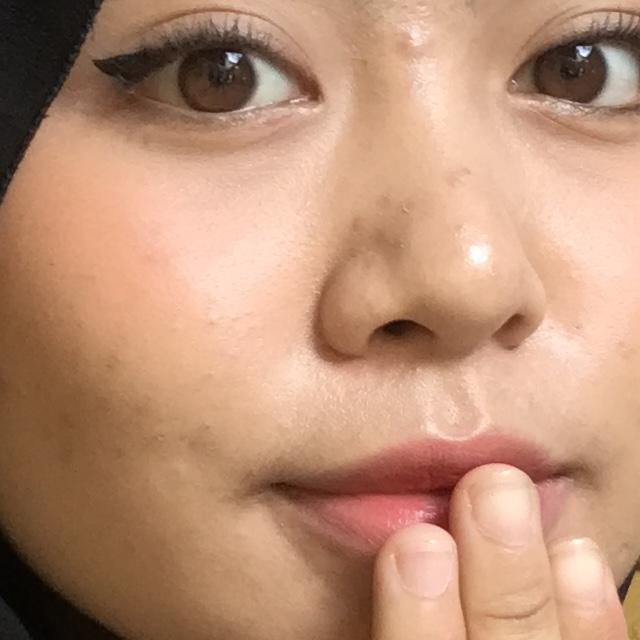ganteng: (210, 416, 640, 640)
